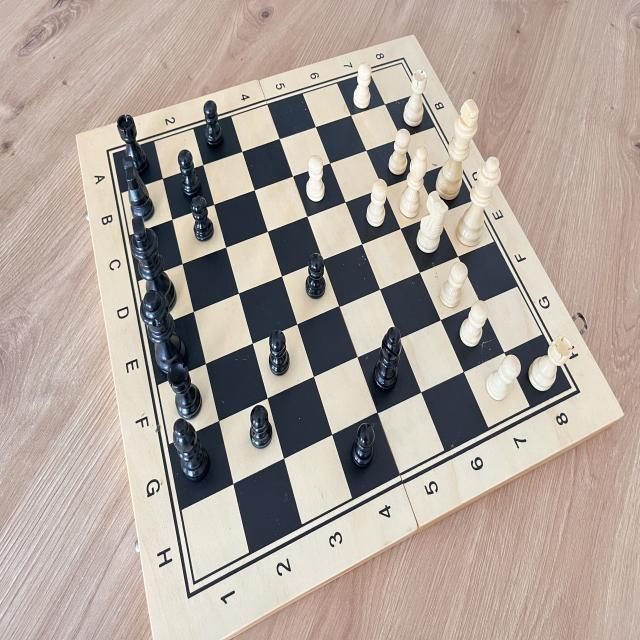black-bishop: (160, 415, 218, 490), (364, 316, 406, 404)
black-king: (120, 210, 184, 319)
black-knight: (112, 142, 161, 227)
black-pawn: (341, 412, 383, 480), (168, 145, 209, 204), (194, 92, 232, 155), (244, 398, 279, 462), (300, 245, 333, 306), (187, 191, 218, 248), (264, 324, 295, 381)
black-queen: (128, 282, 194, 381)
black-rook: (108, 112, 156, 184), (161, 351, 207, 426)
white-bishop: (392, 137, 433, 225)
white-king: (428, 94, 492, 204)
white-knight: (411, 186, 453, 263)
white-pawn: (434, 256, 474, 323), (482, 344, 523, 409), (455, 295, 492, 357), (298, 144, 333, 208), (383, 121, 415, 188), (361, 173, 392, 235), (345, 59, 376, 116)
white-queen: (449, 150, 505, 254)
white-rook: (520, 324, 579, 400), (394, 65, 432, 133)
